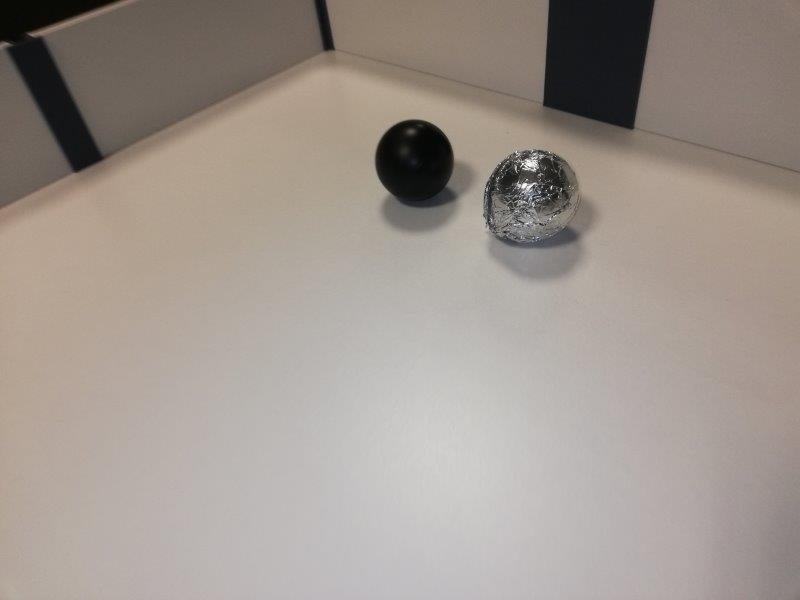bianca: (482, 150, 582, 243)
nera: (375, 119, 453, 201)
